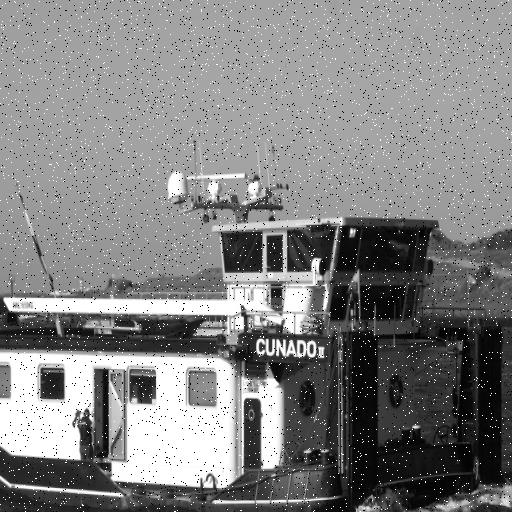tugboat: (1, 167, 509, 512)
